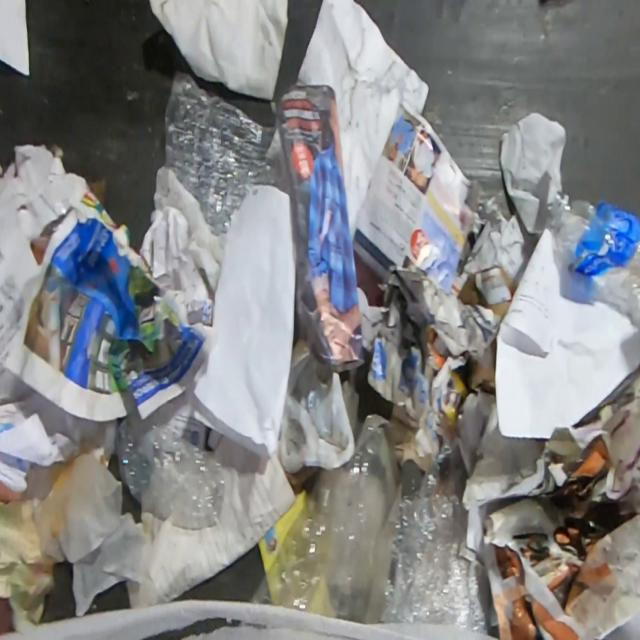cardboard: (458, 263, 521, 320), (466, 338, 496, 393)
rigid_plastic: (114, 409, 228, 530), (544, 189, 640, 327)
soft_plastic: (247, 411, 398, 625), (378, 439, 490, 635), (163, 68, 279, 238), (280, 371, 356, 476)
